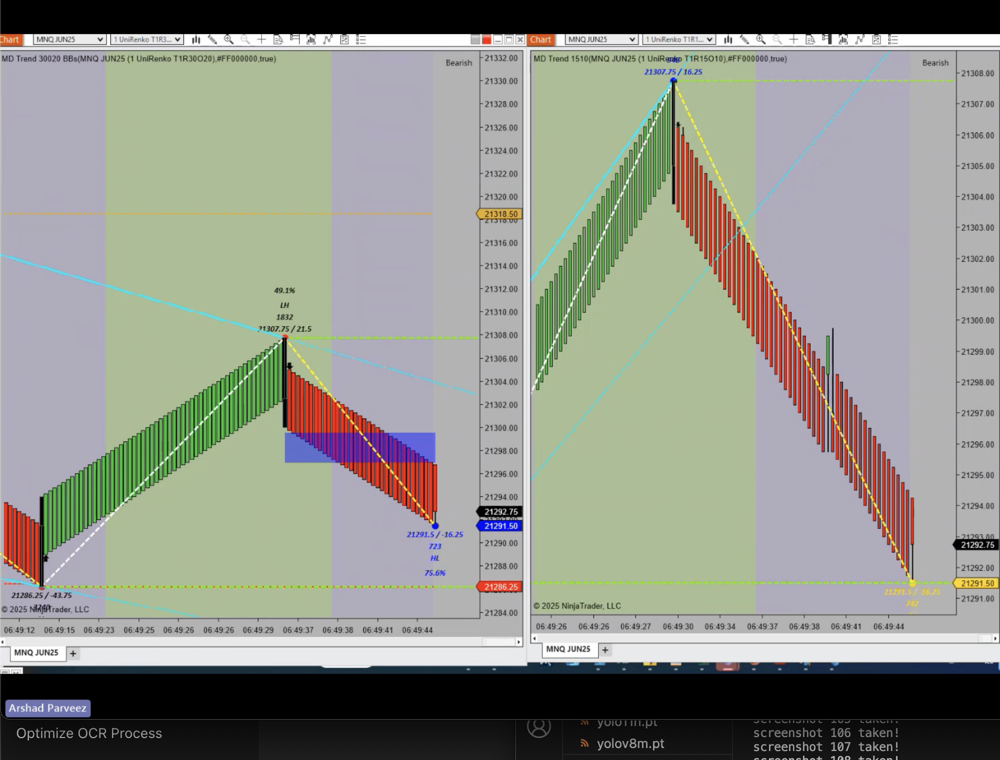HL: (421, 550, 448, 566)
LH: (271, 299, 299, 313)
